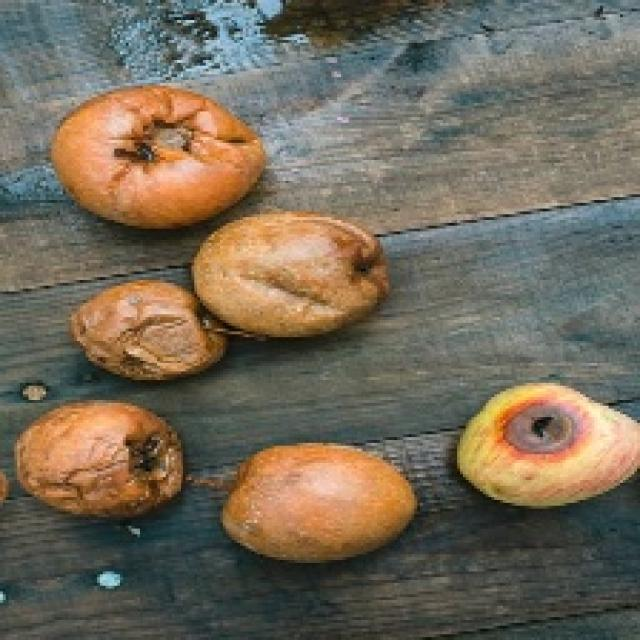rotten_apple: (52, 88, 262, 223), (198, 215, 387, 334), (461, 385, 639, 502), (234, 444, 416, 553), (21, 404, 182, 516), (76, 282, 209, 371)
